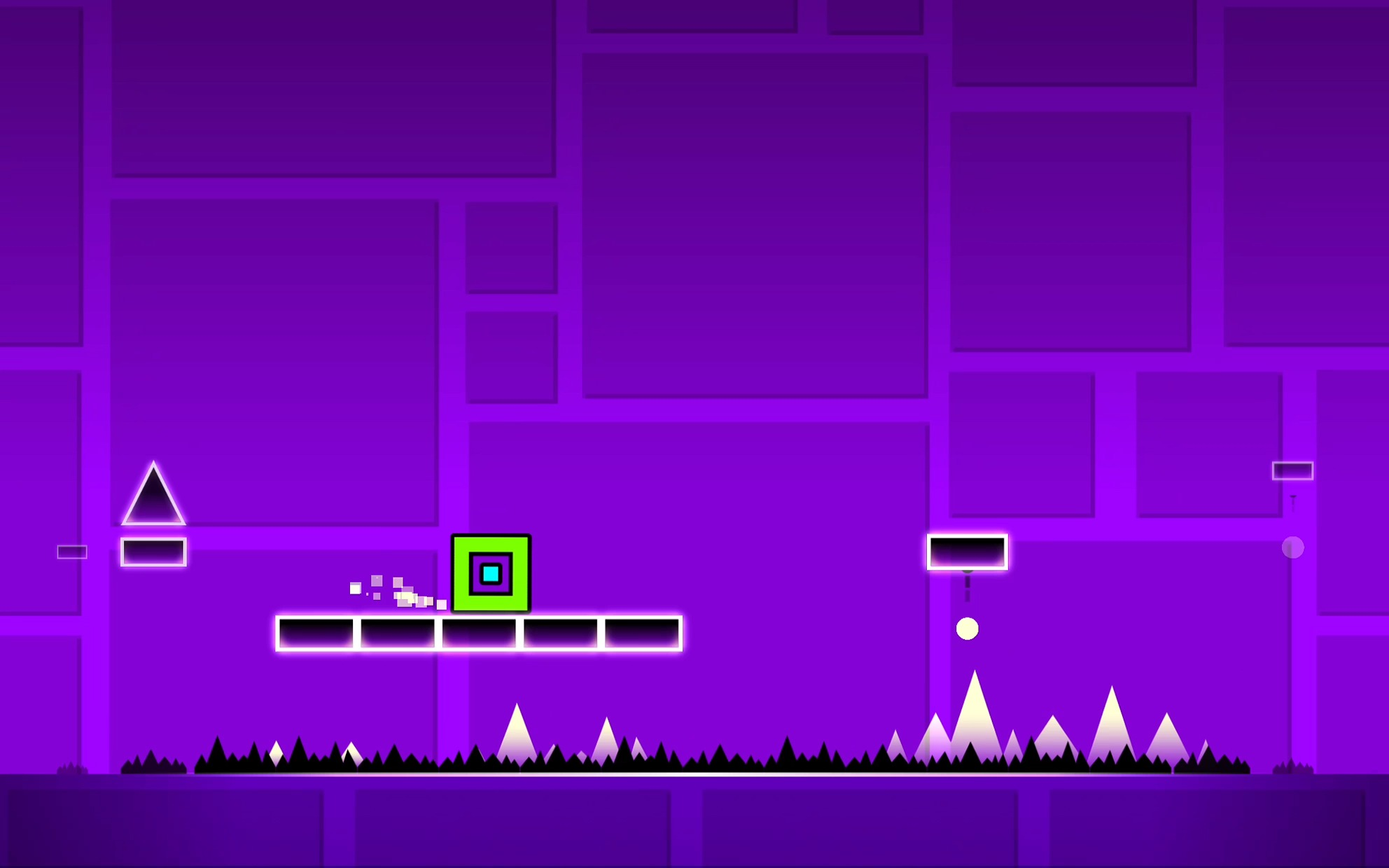Block3: (507, 616, 686, 652), (930, 533, 1011, 571), (598, 616, 684, 651), (276, 616, 358, 651), (363, 616, 433, 648), (443, 617, 515, 648), (122, 536, 189, 566), (1275, 462, 1318, 482)
Player: (450, 535, 530, 613)
Spike: (122, 461, 187, 524)
Spike3: (35, 745, 1388, 781)
